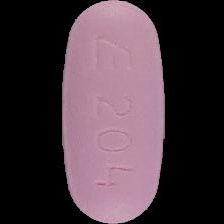52959-595: (0, 0, 224, 224)
